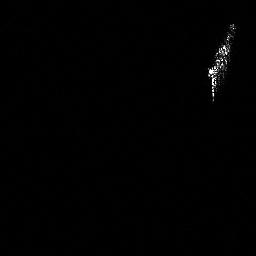ship: (203, 20, 239, 106)
